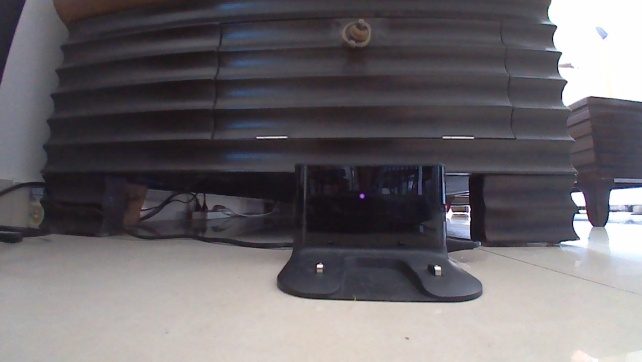charger: (273, 157, 485, 305)
wire: (0, 181, 295, 252), (444, 232, 482, 254)
